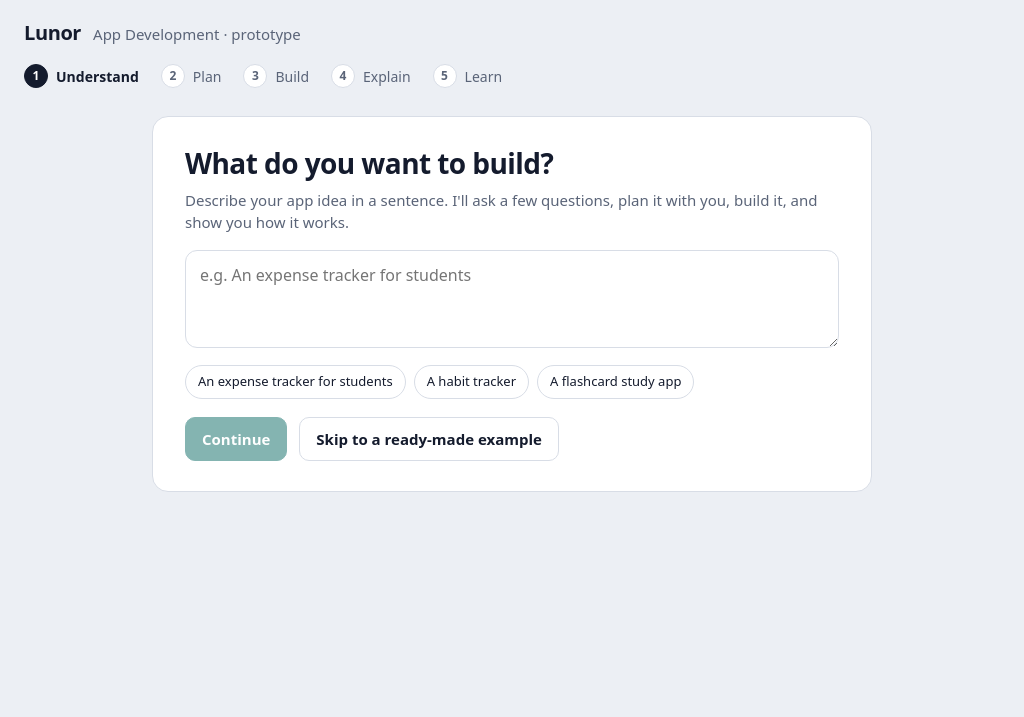
Test: failure paths never strand the user › Understand fails (backend down): retries once, then continues with the ready-made plan and says so
The width and height of the screenshot is (1024, 717).
Type "habit tracker" into the text box named "App idea" at point(512, 299), box [185,250,839,348]
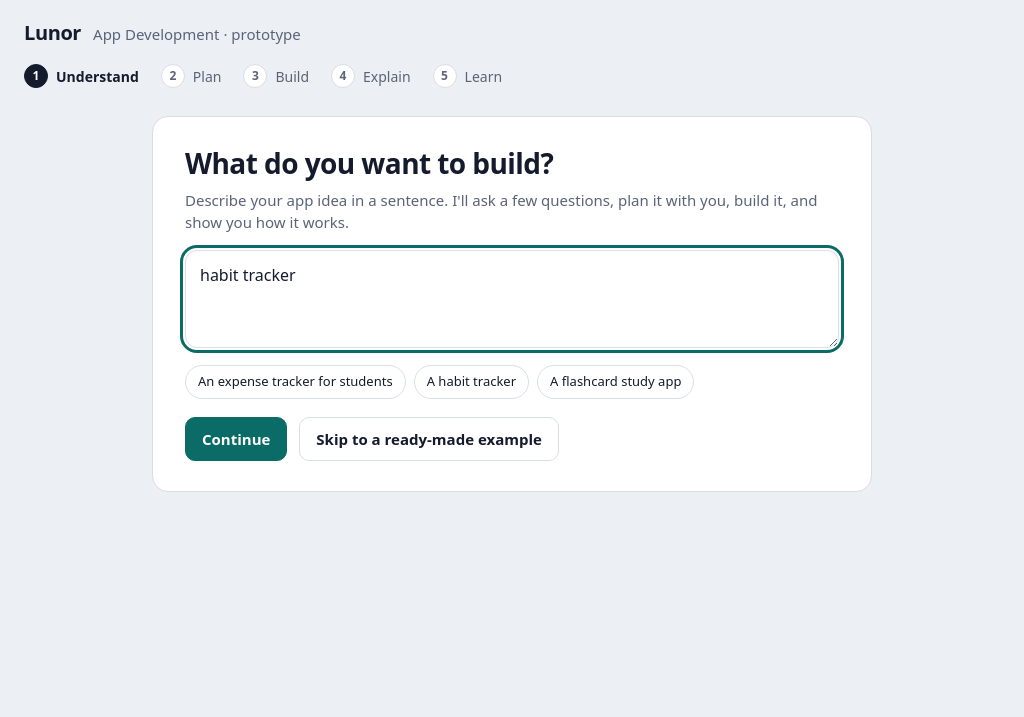
Click the button "Continue" at point(236, 439), box [185,417,287,461]
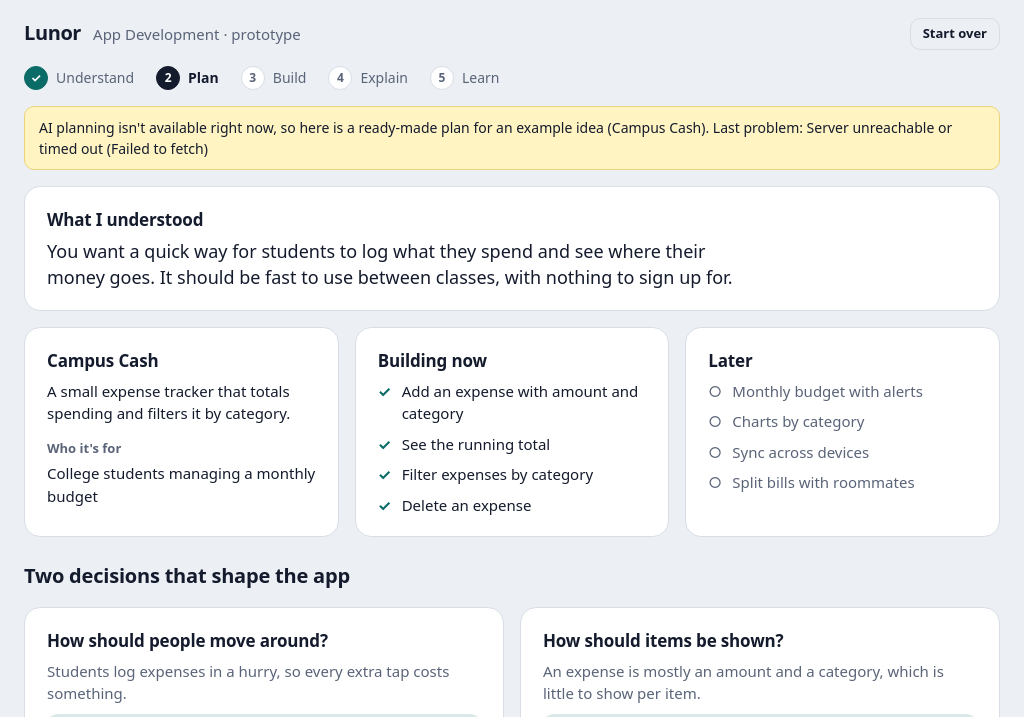
Result: the message shows "ready-made plan" at [39,118,952,158]
